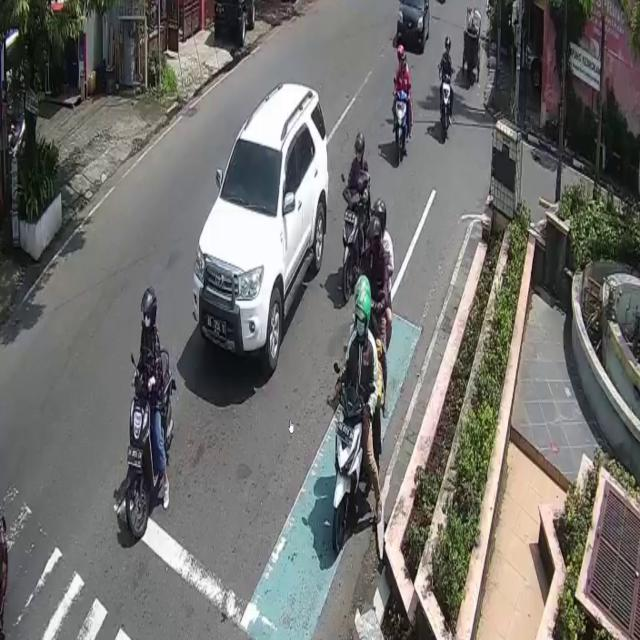bus: (128, 350, 174, 541), (334, 386, 366, 552), (341, 187, 370, 303), (394, 90, 408, 163), (439, 73, 453, 134)
motorcycle: (192, 80, 328, 374), (396, 0, 430, 51)
